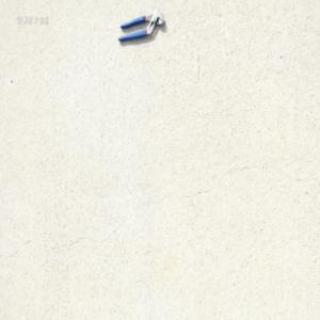Pliertrack_idkeyframe: (116, 10, 164, 42)
